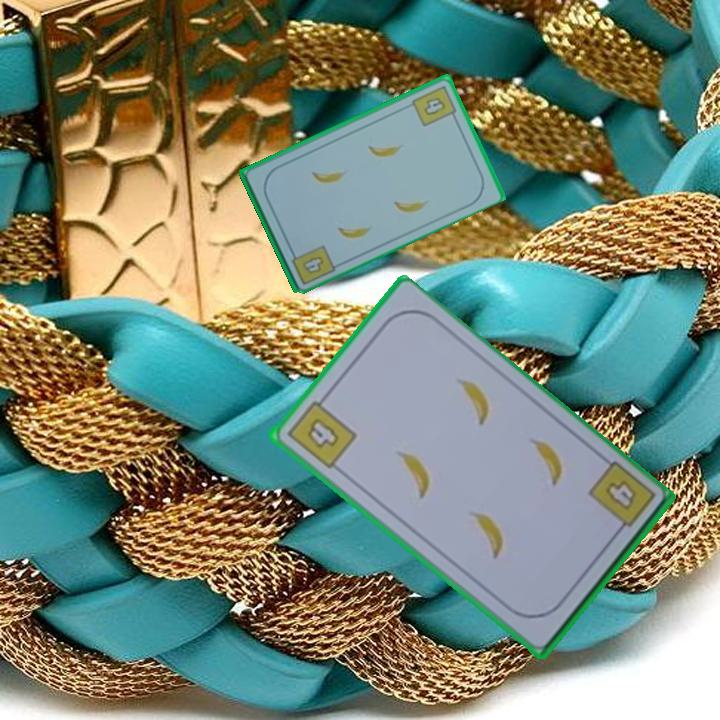4b: (282, 391, 359, 472), (408, 82, 460, 129), (287, 241, 338, 288), (601, 476, 639, 510)
